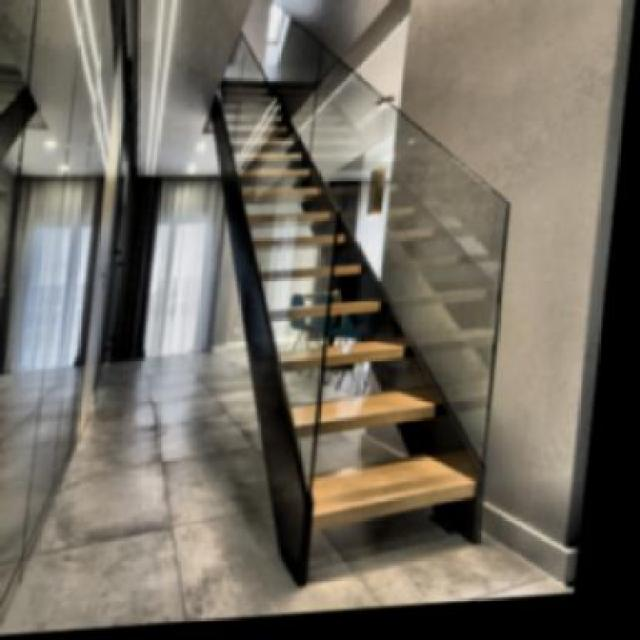stair: (194, 88, 526, 528)
